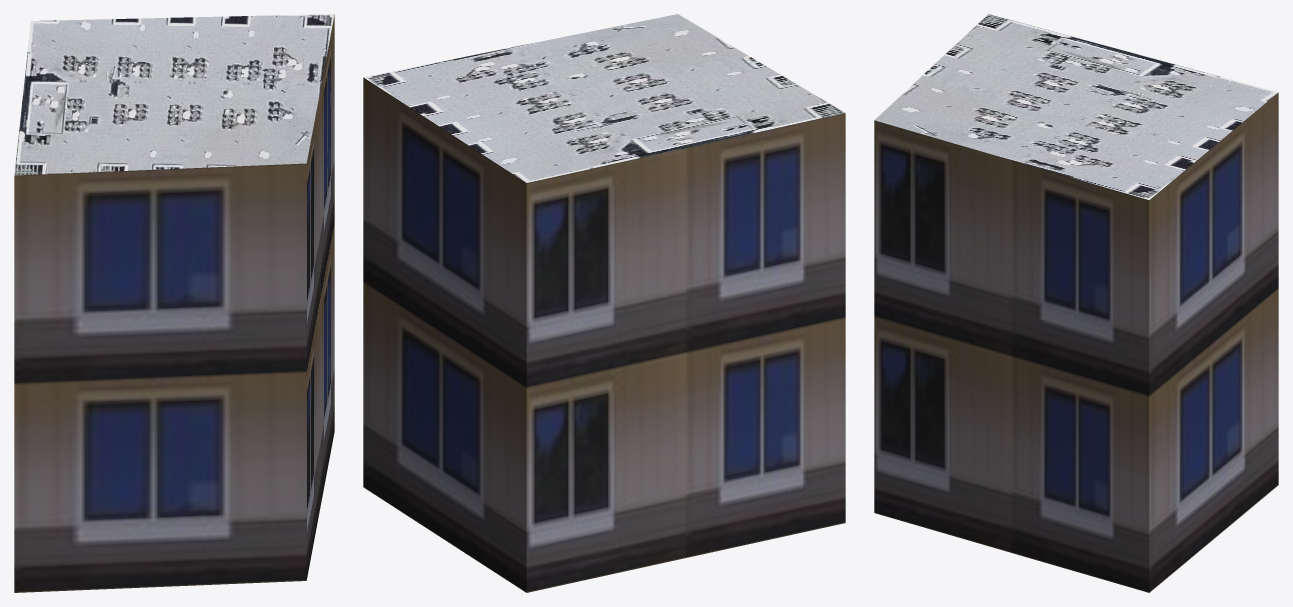
The model's file is ResTex__5088.fbx.
The picture shows the model from 3 angles, left to right: view 1: azimuth 30°, elevation 25°; view 2: azimuth 150°, elevation 25°; view 3: azimuth 270°, elevation 25°; orthographic projection. The views are drawn at different scales.
Visible parts, largest first — view 1: CityEngineMaterial_5_m, CityEngineMaterial_m; view 2: CityEngineMaterial_5_m, CityEngineMaterial_m; view 3: CityEngineMaterial_5_m, CityEngineMaterial_m.
Boxes of the visible parts, x1=… form: CityEngineMaterial_5_m: x1=14, y1=15, x2=334, y2=592; CityEngineMaterial_m: x1=14, y1=14, x2=334, y2=175; CityEngineMaterial_5_m: x1=363, y1=77, x2=845, y2=592; CityEngineMaterial_m: x1=364, y1=14, x2=845, y2=182; CityEngineMaterial_5_m: x1=874, y1=92, x2=1278, y2=592; CityEngineMaterial_m: x1=874, y1=14, x2=1278, y2=200.
Size of the model in its own units: 6.1 by 6 by 5.6.
2 materials, 2 textured.
